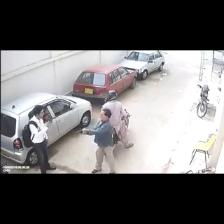person: (82, 110, 115, 173), (30, 105, 56, 173), (103, 91, 133, 148)
